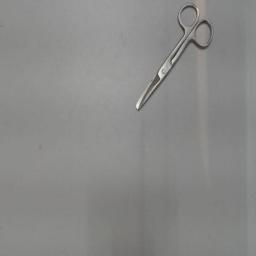Dressing Scissors: (130, 1, 218, 117)
